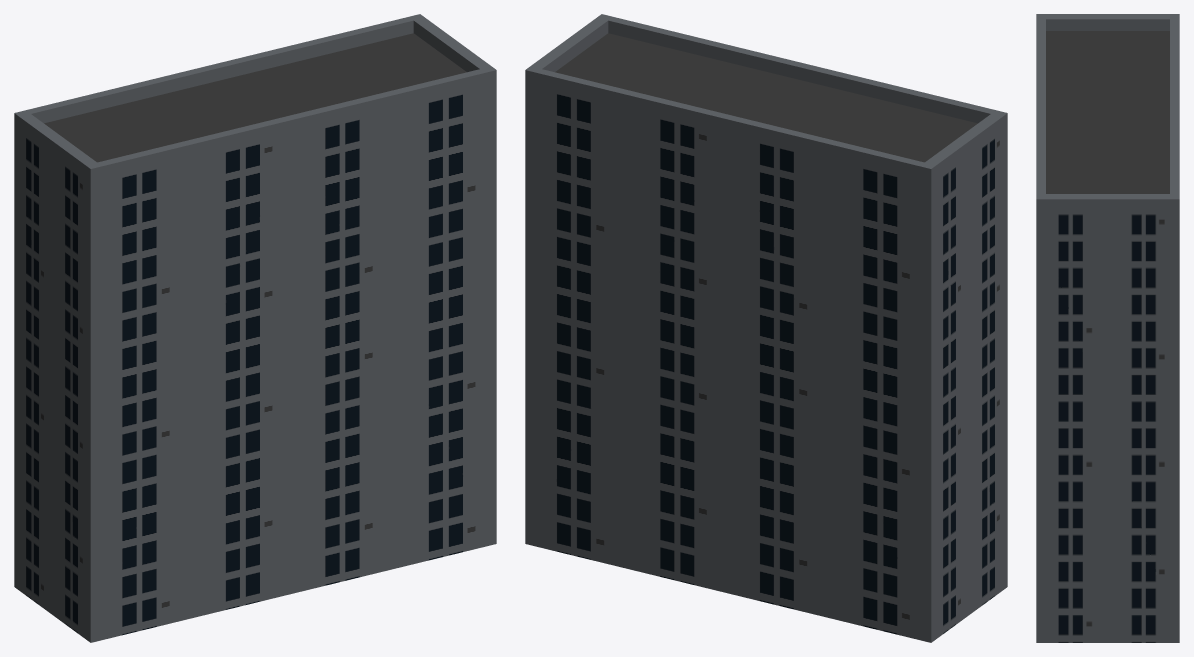
File: SM_Env_Background_Building_Skinny_06.fbx
The picture shows the model from 3 angles, left to right: view 1: azimuth 30°, elevation 25°; view 2: azimuth 150°, elevation 25°; view 3: azimuth 270°, elevation 25°; orthographic projection. The views are drawn at different scales.
Parts seen in each view (by area): view 1: SM_Env_Background_Building_Skinny_06; view 2: SM_Env_Background_Building_Skinny_06; view 3: SM_Env_Background_Building_Skinny_06.
Part boxes in pixels (x1=…): SM_Env_Background_Building_Skinny_06: x1=14, y1=14, x2=496, y2=642; SM_Env_Background_Building_Skinny_06: x1=525, y1=14, x2=1007, y2=642; SM_Env_Background_Building_Skinny_06: x1=1036, y1=14, x2=1179, y2=642.
Size of the model in its own units: 2888 by 3221 by 943.
